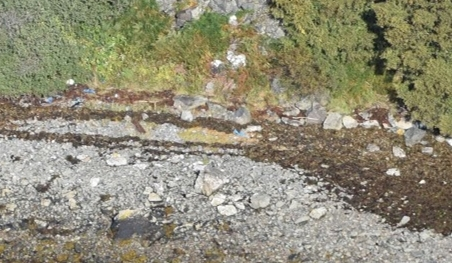scattered_barrel: (38, 75, 101, 116)
white_in_green: (222, 115, 254, 145)
